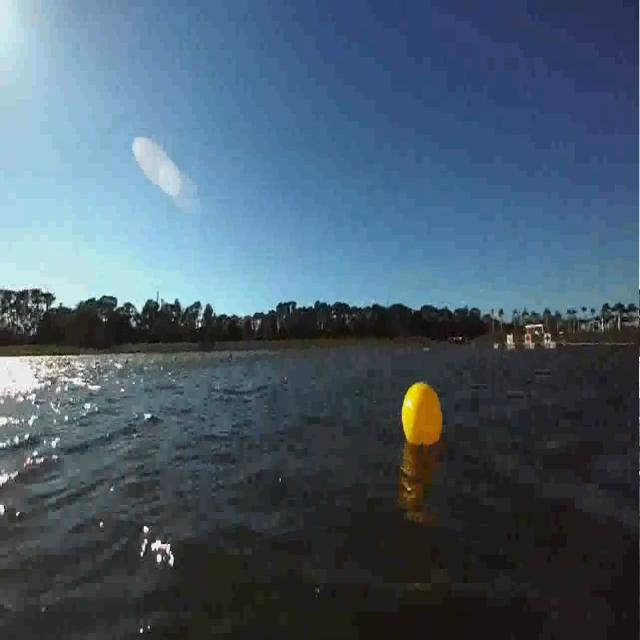yellow-buoy: (402, 382, 444, 450)
